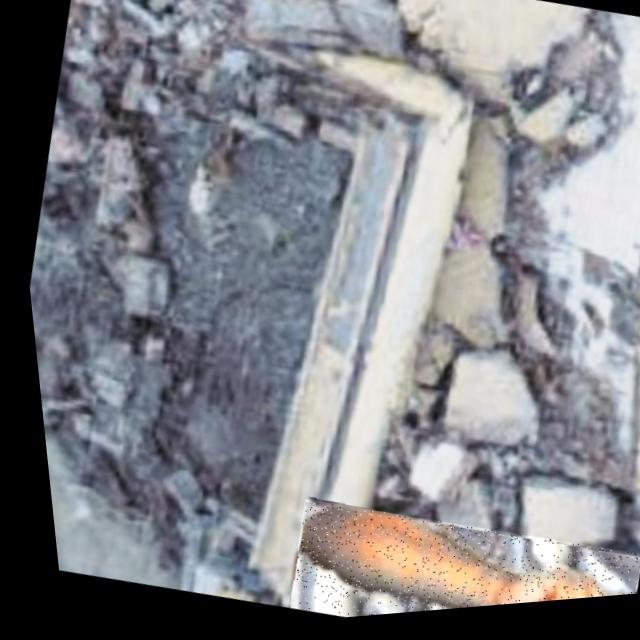Person in Rubble: (265, 481, 630, 626)
